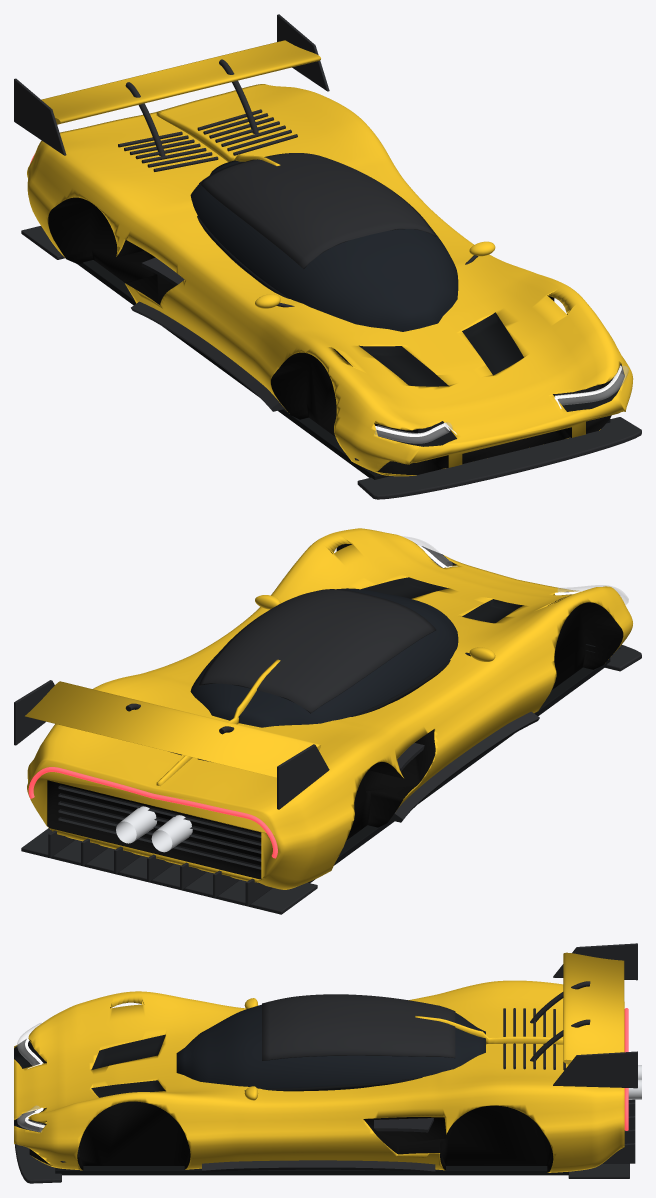
The model's file is volcano_p1.glb.
The picture shows the model from 3 angles, top to bottom: view 1: azimuth 30°, elevation 25°; view 2: azimuth 150°, elevation 25°; view 3: azimuth 270°, elevation 25°; orthographic projection. The views are drawn at different scales.
Parts seen in each view (by area): view 1: Body, Canopy, Roof, Wing, Splitter, Sill-1, Floor, endplate-1, endplate1, Fin, lens1, lens-1; view 2: Body, Roof, Wing, Canopy, DiffPlate, Sill-1, endplate-1, Floor, endplate1, exh-1, exh1, rbar4 (+8 smaller); view 3: Body, Roof, Canopy, Wing, Floor, endplate1, Sill1, endplate-1, Splitter, Fin, DiffPlate, Strake1 (+4 smaller).
Boxes of the visible parts, x1,y1,x2,y2 form: Body: [27, 84, 633, 476]; Canopy: [190, 160, 458, 331]; Roof: [199, 153, 436, 268]; Wing: [41, 40, 320, 124]; Splitter: [357, 417, 641, 499]; Sill-1: [131, 301, 284, 411]; Floor: [77, 260, 610, 479]; endplate-1: [14, 78, 66, 155]; endplate1: [277, 14, 329, 91]; Fin: [156, 111, 280, 165]; lens1: [558, 366, 628, 404]; lens-1: [375, 422, 452, 443]; Body: [27, 528, 632, 889]; Roof: [199, 589, 436, 713]; Wing: [25, 681, 320, 777]; Canopy: [190, 588, 458, 727]; DiffPlate: [21, 828, 317, 914]; Sill-1: [390, 711, 539, 822]; endplate-1: [277, 744, 329, 809]; Floor: [308, 658, 610, 882]; endplate1: [14, 680, 54, 745]; exh-1: [151, 815, 192, 852]; exh1: [116, 806, 156, 843]; rbar4: [58, 785, 261, 837]; Body: [14, 980, 624, 1172]; Roof: [262, 994, 455, 1061]; Canopy: [176, 1004, 485, 1090]; Wing: [563, 952, 624, 1064]; Floor: [55, 1166, 568, 1175]; endplate1: [553, 1051, 637, 1088]; Sill1: [202, 1160, 435, 1173]; endplate-1: [553, 943, 637, 980]; Splitter: [14, 1144, 61, 1183]; Fin: [415, 1015, 563, 1044]; DiffPlate: [568, 1163, 629, 1178]; Strake1: [374, 1118, 433, 1132].
Size of the model in its own units: 2.22 by 1.08 by 4.71.
